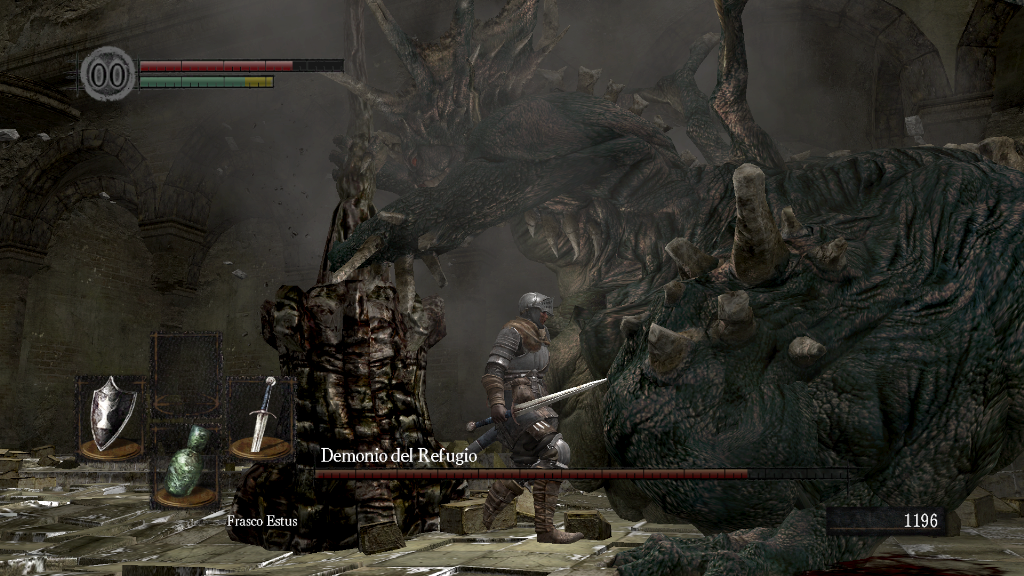asylumDemon: (227, 1, 1024, 576)
bossHP: (314, 469, 847, 479)
health: (138, 58, 343, 71)
humanity: (80, 45, 136, 102)
player: (465, 291, 611, 545)
souls: (825, 506, 945, 536)
stamina: (138, 74, 274, 88)
